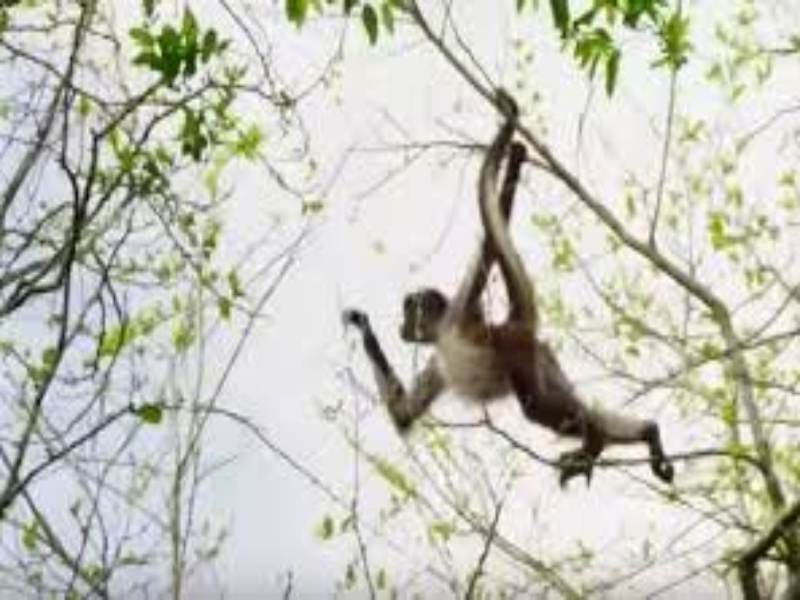monkey: (280, 129, 697, 546)
